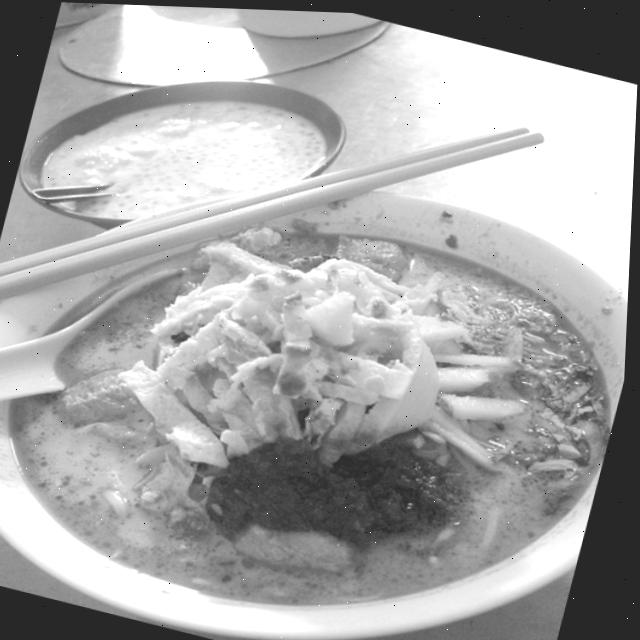面条主食: (0, 55, 638, 640)
